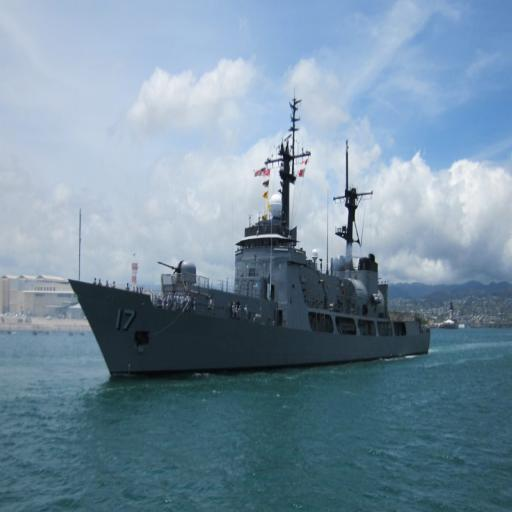Fragata: (66, 57, 434, 392)
